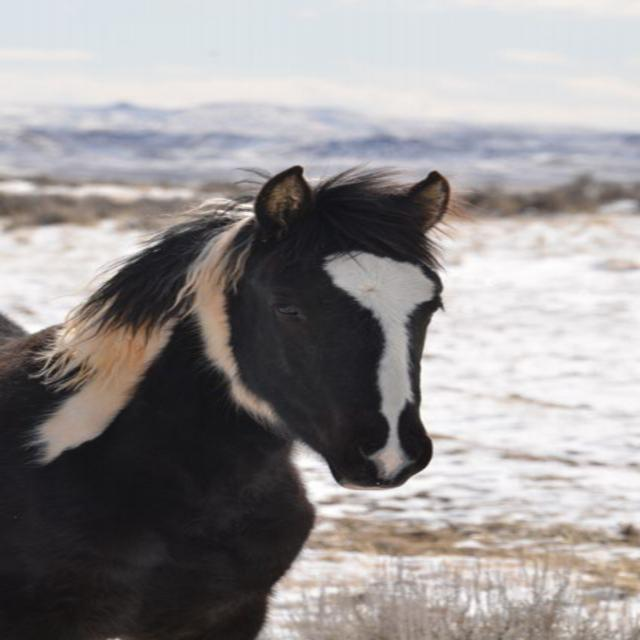Horse: (0, 164, 486, 639)
